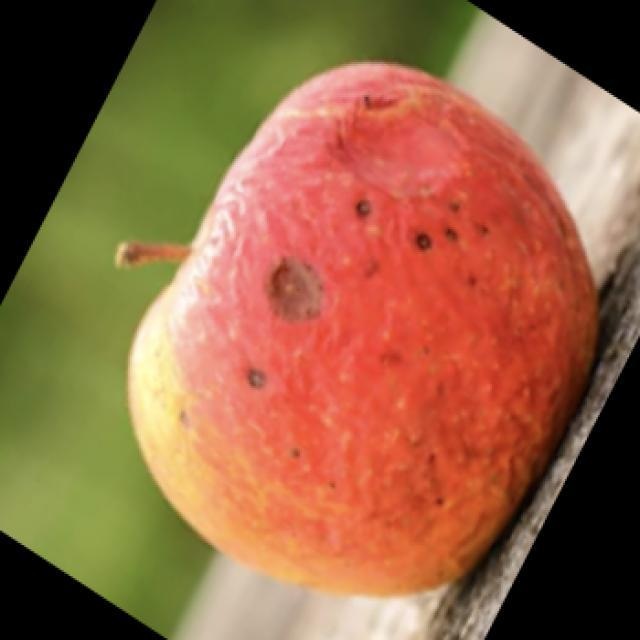Rotten: (147, 73, 595, 590)
